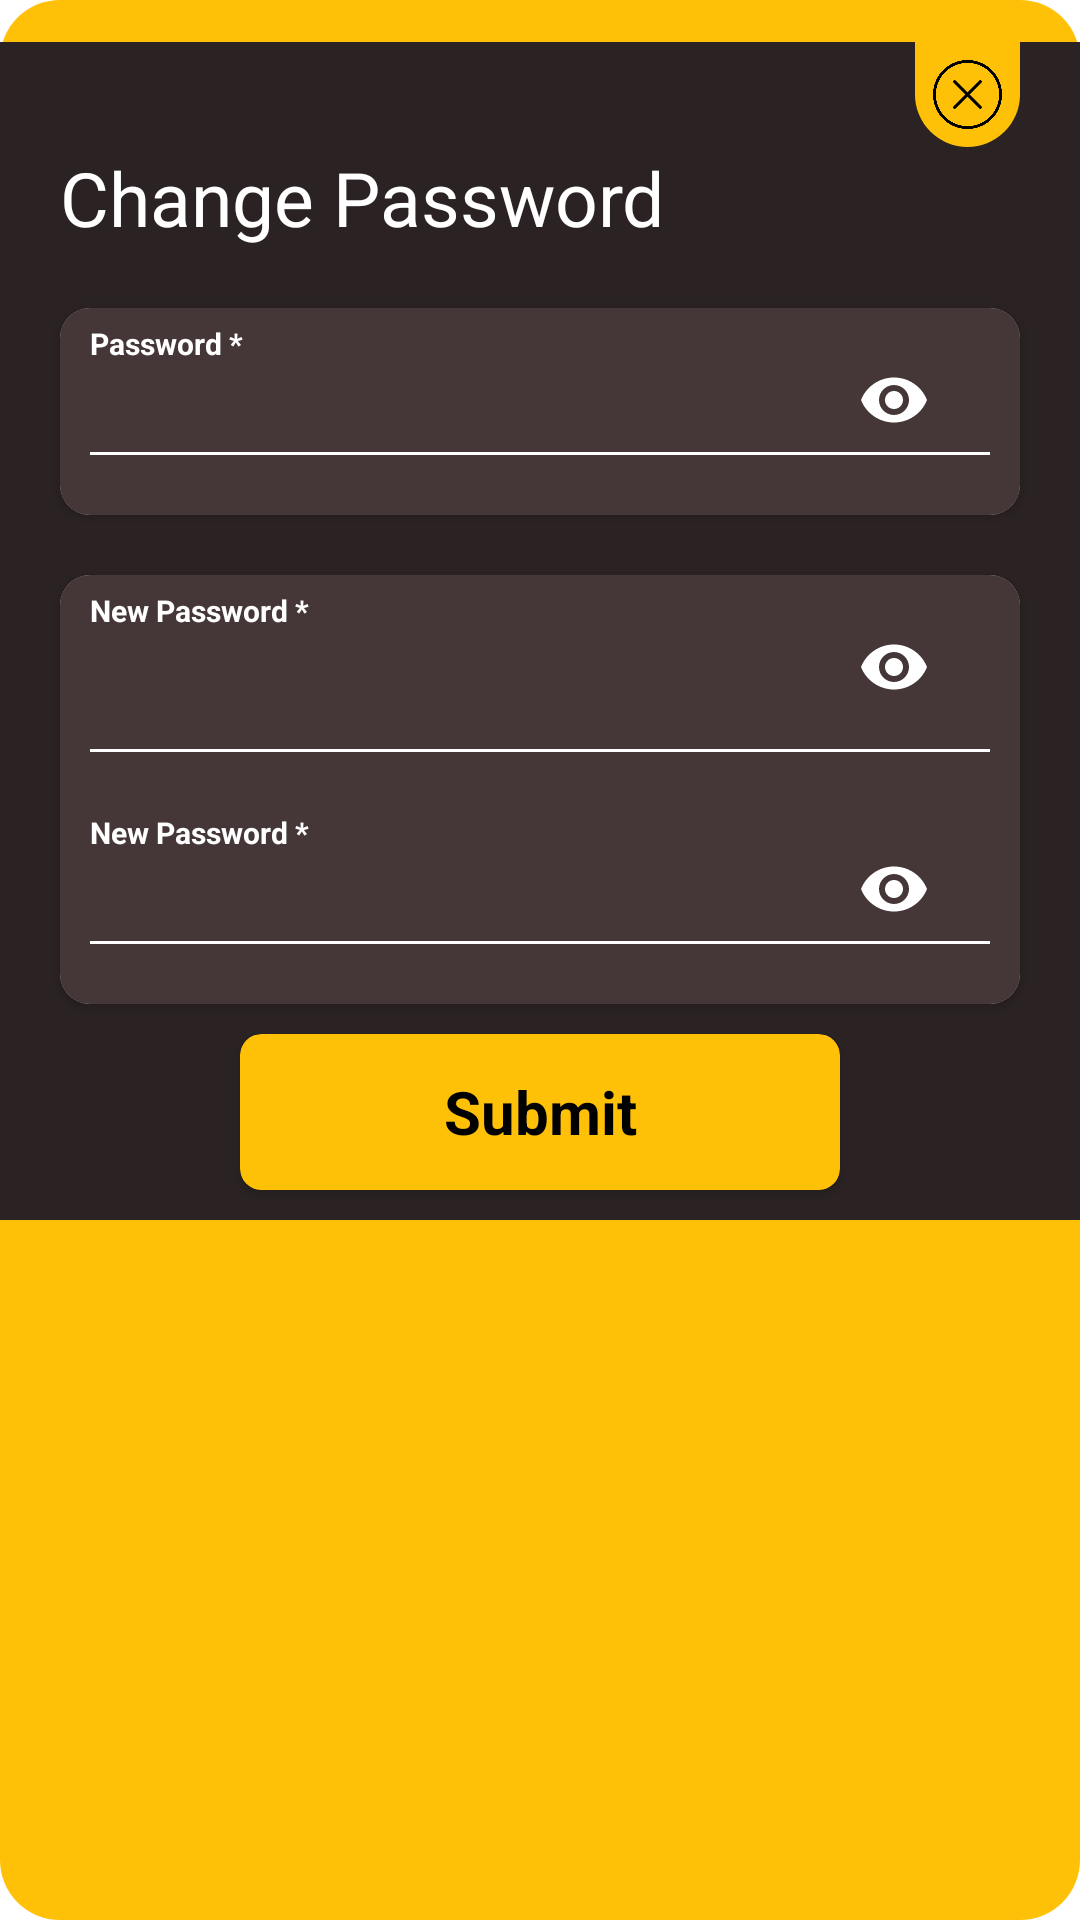

Named icons in this screenshot (1080x1920) and their centers, point (x, y):
closebtn: point (967, 94)
visibikity: point (894, 400), point (894, 667), point (894, 889)
